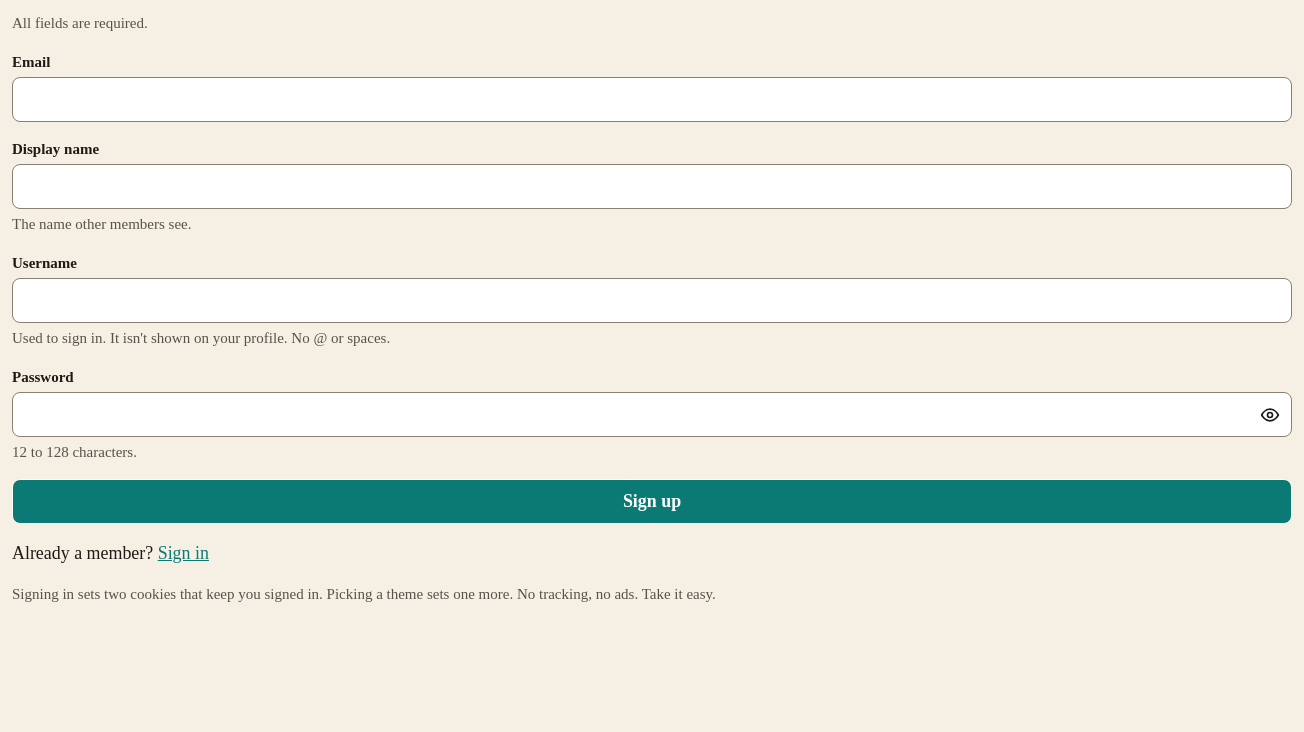
Test: SignUpForm › shows the half-finished message with a plain Sign in link
Type "e2e-walter@example.com" into the field labelled "Email".
click(652, 99); type("e2e-walter@example.com")  # box x1=12 y1=77 x2=1292 y2=122
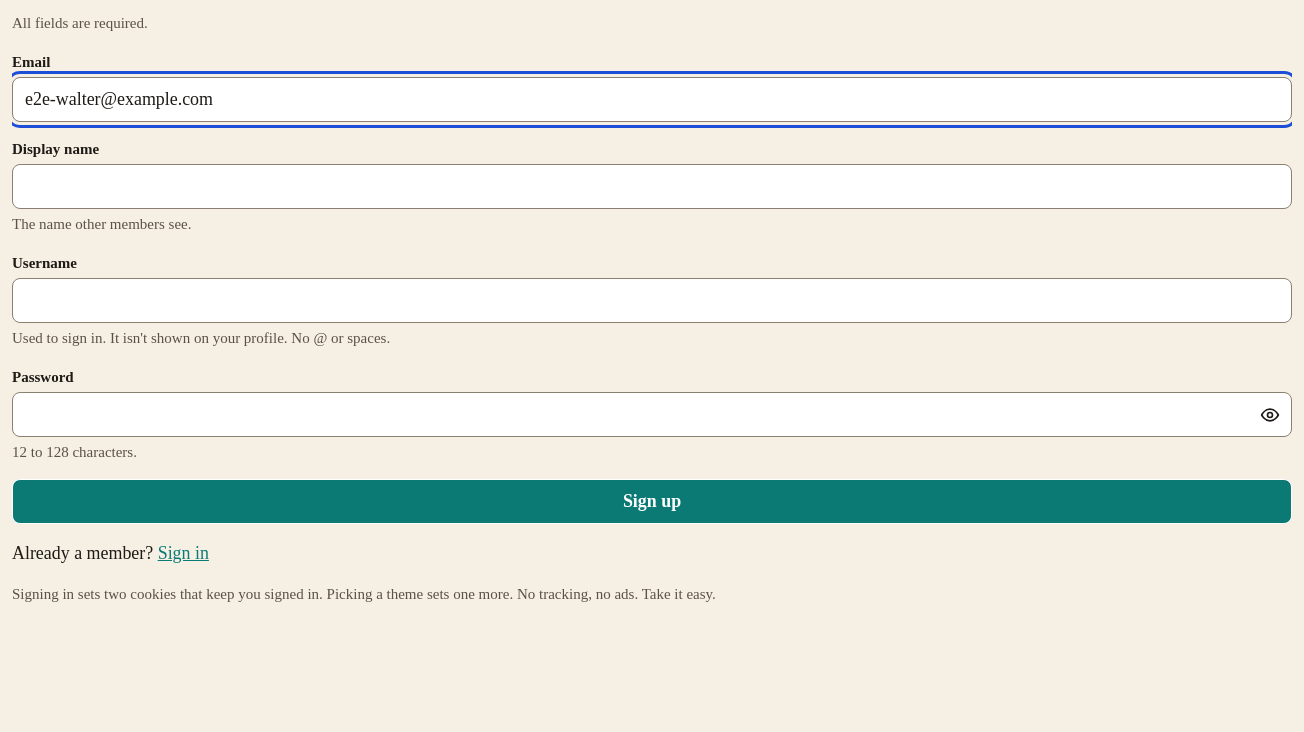
Type "Walter" into the field labelled "Display name".
click(652, 187); type("Walter")  # box x1=12 y1=164 x2=1292 y2=209
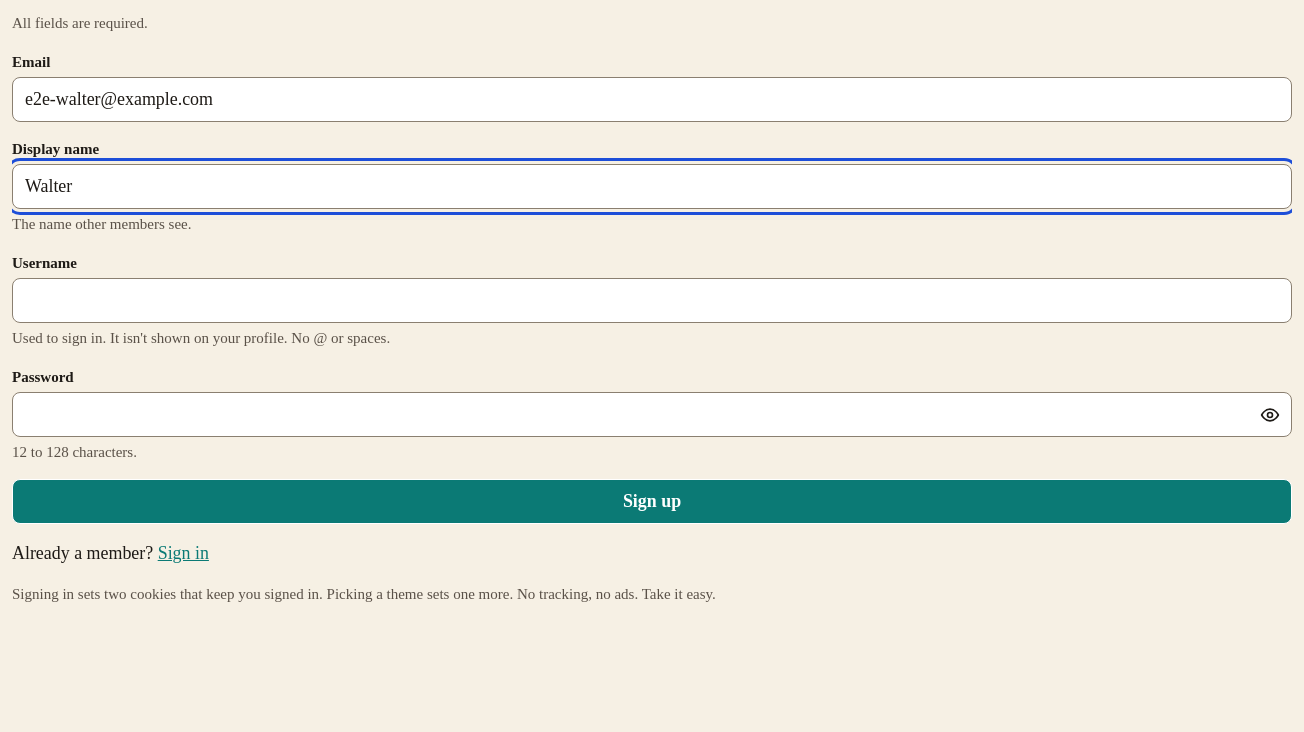
Type "e2e-walter" into the field labelled "Username".
click(652, 301); type("e2e-walter")  # box x1=12 y1=278 x2=1292 y2=323
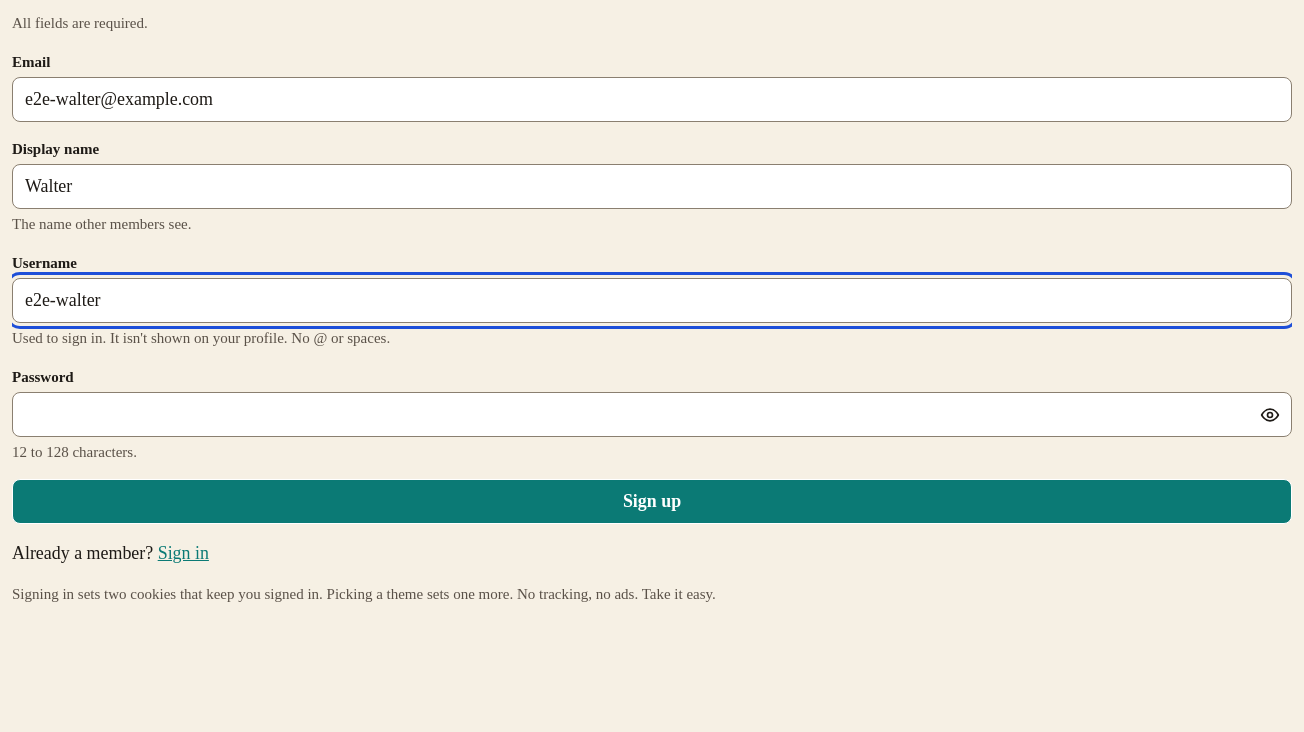
Type "not-a-real-password" into the password field labelled "Password".
click(652, 415); type("not-a-real-password")  # box x1=12 y1=392 x2=1292 y2=437
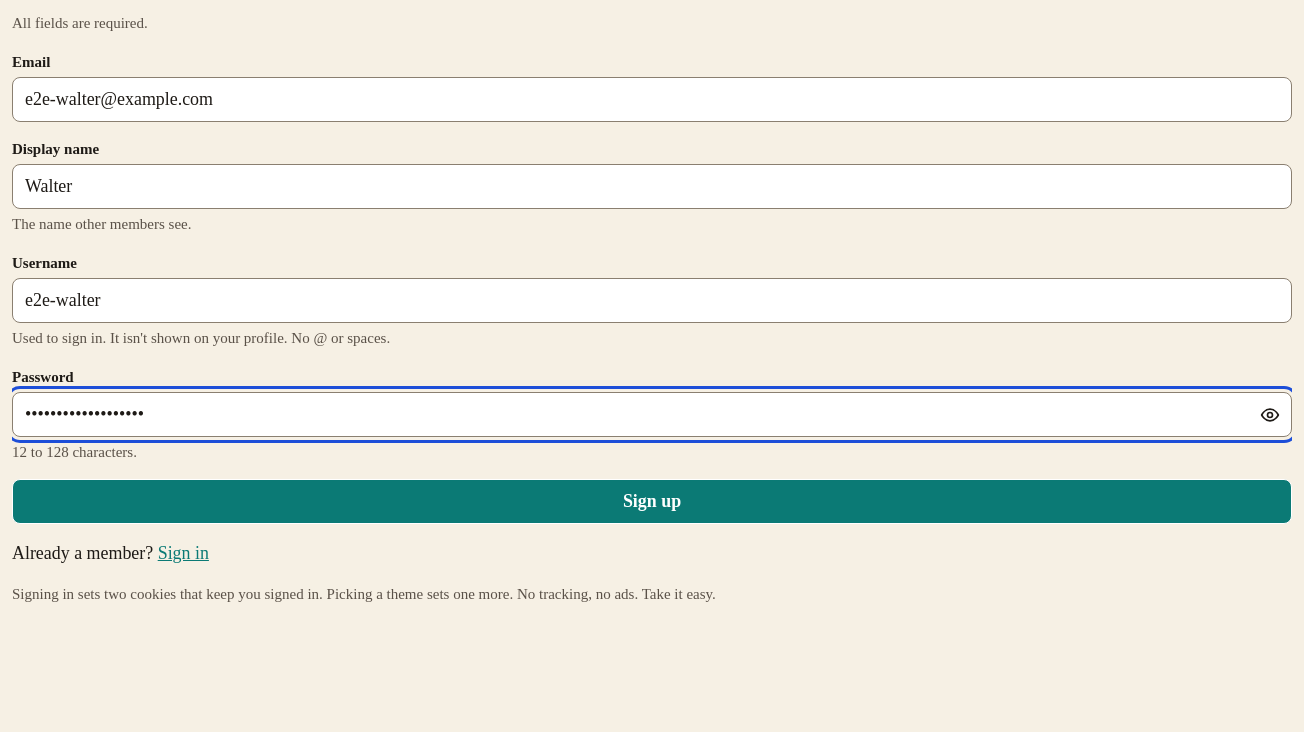
Click the button "Sign up".
click(652, 502)  # box x1=12 y1=479 x2=1292 y2=524
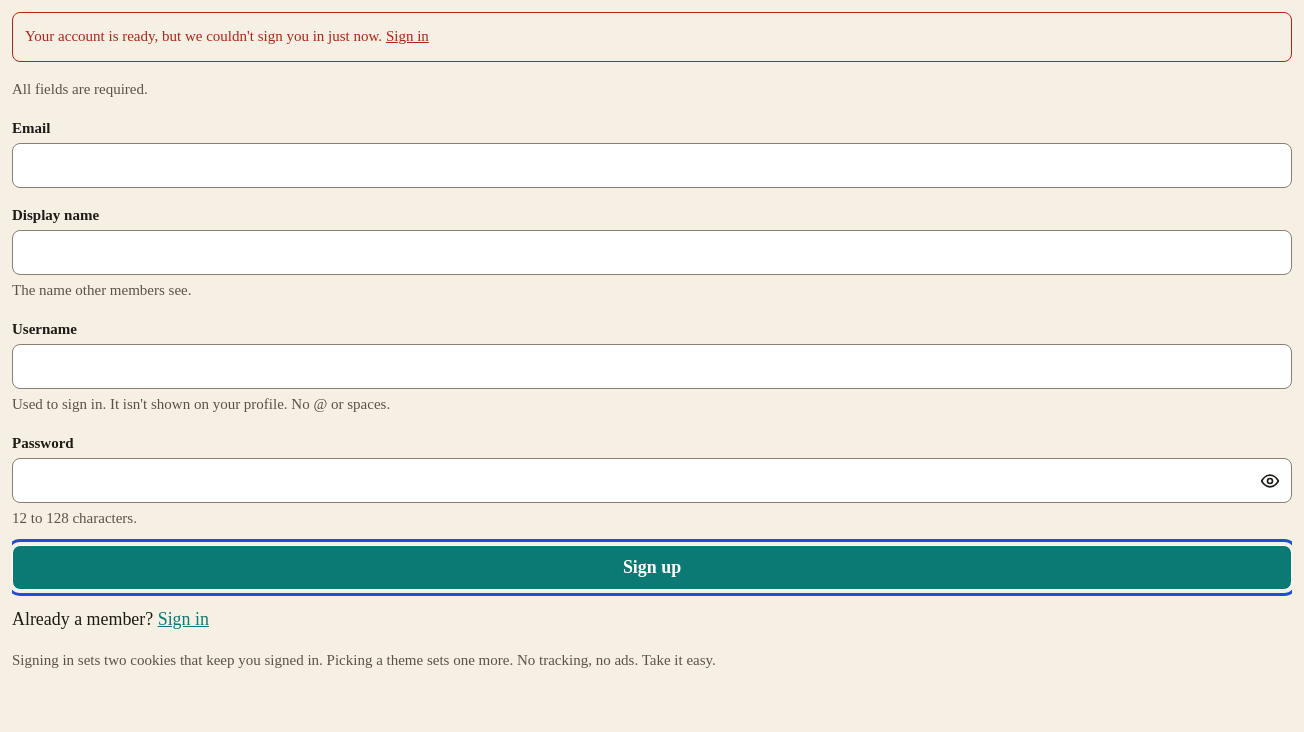
Result: the message shows "Your account is ready, but we couldn't sign you in just now." at x1=25 y1=28 x2=382 y2=44
Result: the 1st link "Sign in" is shown at x1=386 y1=25 x2=429 y2=49
